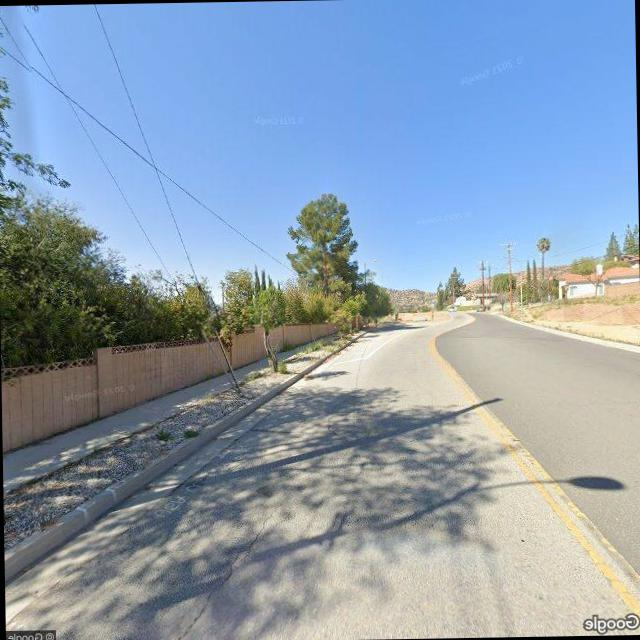pothole: (170, 486, 288, 640)
